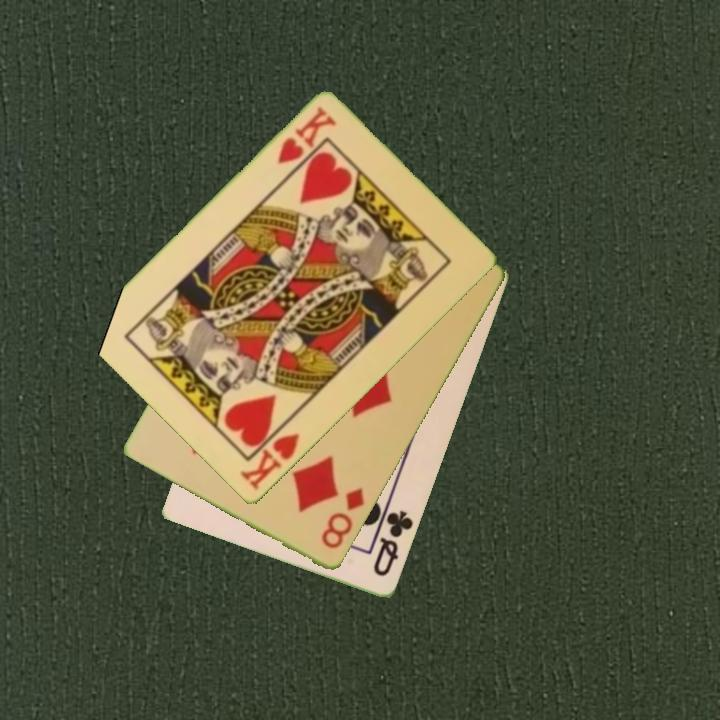8d: (318, 484, 368, 553)
Kh: (236, 416, 303, 493), (274, 104, 340, 168)
Qc: (370, 507, 417, 581)
